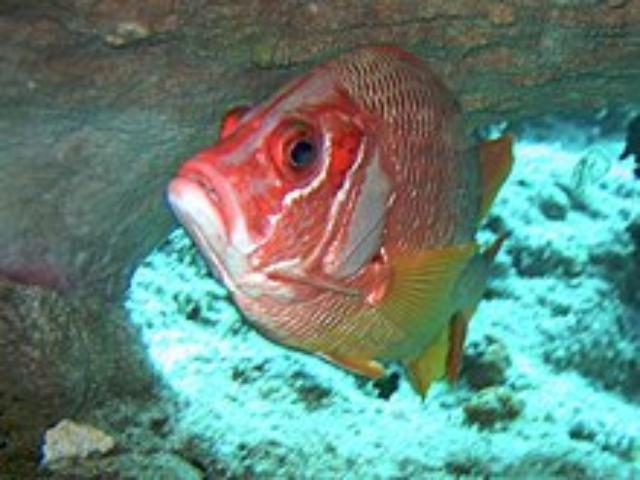Mulut: (142, 124, 255, 274)
Sirip Anal: (398, 314, 457, 418)
Sirip Dada: (346, 228, 488, 362)
Sirip Ekor: (439, 221, 516, 396)
Sirip Perut: (314, 338, 396, 402)
Sirip Punggung: (462, 118, 528, 238)
